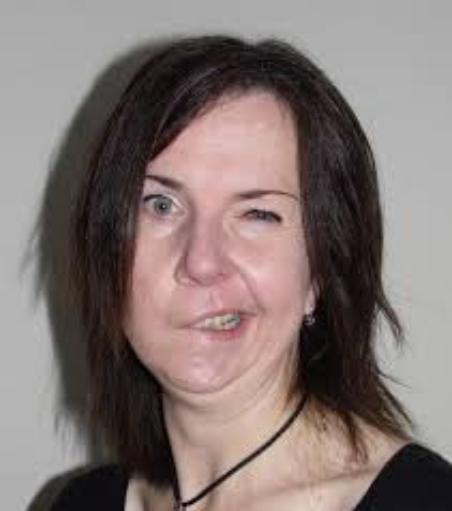left_eye: (233, 207, 287, 231)
left_lip_corner: (244, 309, 264, 328)
right_eye: (142, 197, 186, 222)
right_lip_corner: (174, 320, 193, 338)
